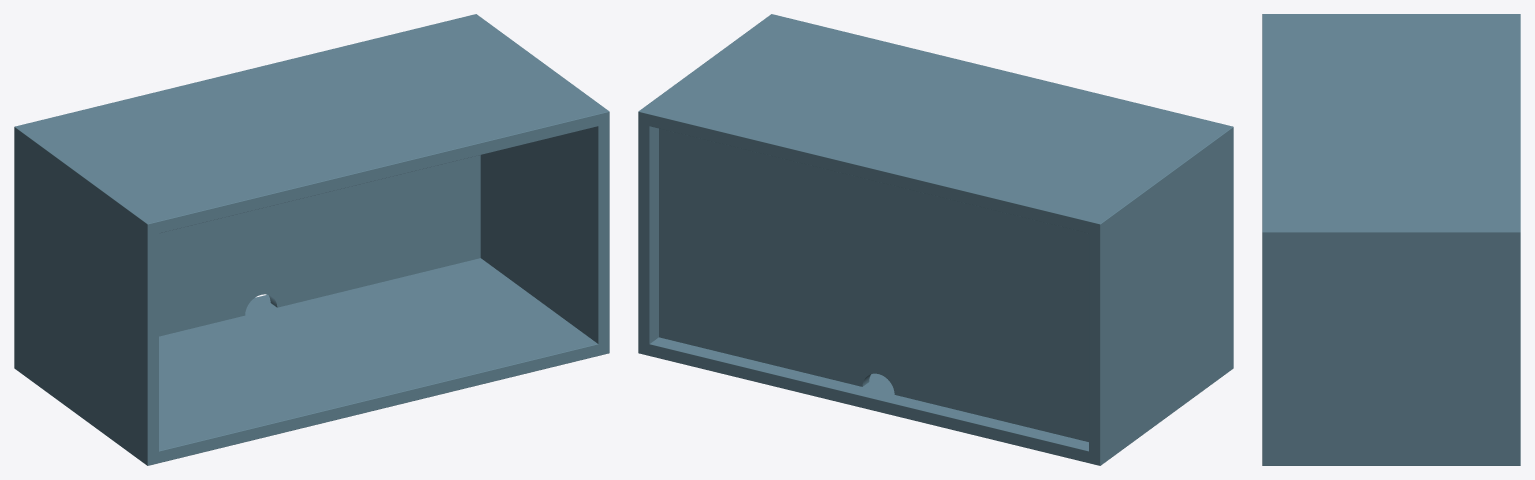
The model's file is MOD-2X1-A-B-AP-AC.glb.
3 renders of one model, left to right at view 1: azimuth 30°, elevation 25°; view 2: azimuth 150°, elevation 25°; view 3: azimuth 270°, elevation 25°, orthographic. The views are drawn at different scales.
Size of the model in its own units: 720 by 360 by 360.
